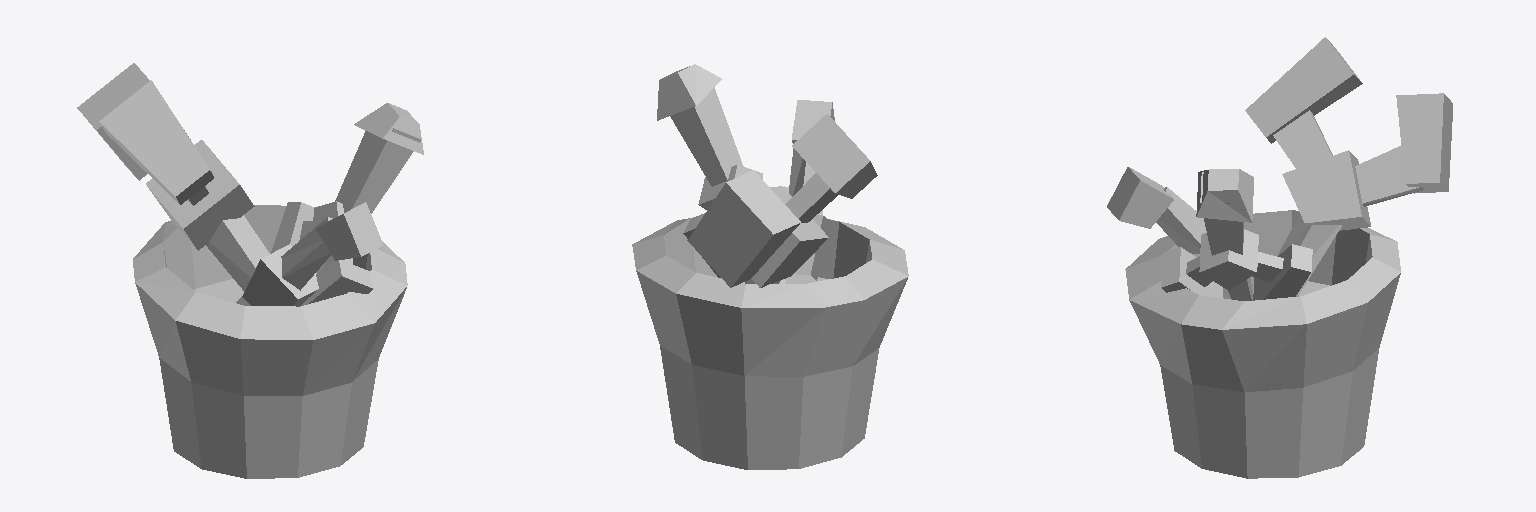
The model's file is gnomebucket03.obj.
The picture shows the model from 3 angles: view 1: azimuth 30°, elevation 25°; view 2: azimuth 150°, elevation 25°; view 3: azimuth 270°, elevation 25°; orthographic projection.
Visible parts, largest first — view 1: Gnomebucket03; view 2: Gnomebucket03; view 3: Gnomebucket03.
Part boxes in pixels (x1,y1,x2,y2): Gnomebucket03: (77,63,423,478); Gnomebucket03: (632,64,908,469); Gnomebucket03: (1107,37,1452,478).
Size of the model in its own units: 0.8562 by 1.13 by 0.9913.